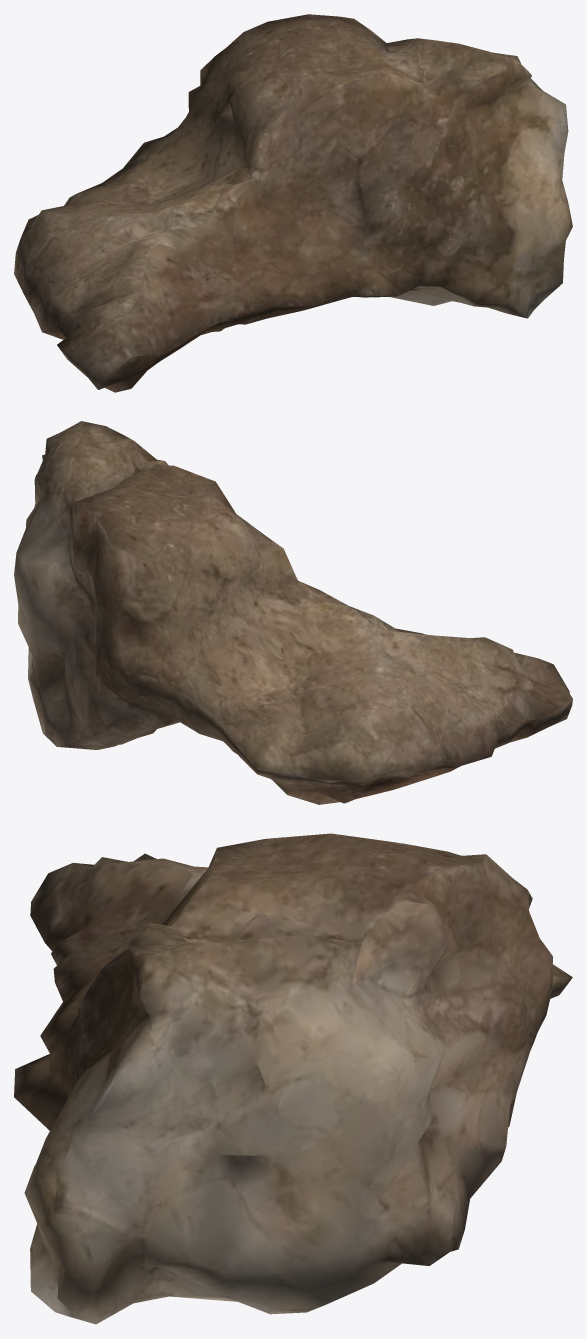
Rendered from stone_01.glb.
3 renders of one model, top to bottom at view 1: azimuth 30°, elevation 25°; view 2: azimuth 150°, elevation 25°; view 3: azimuth 270°, elevation 25°, orthographic. The views are drawn at different scales.
Parts seen in each view (by area): view 1: stone_01_lod0; view 2: stone_01_lod0; view 3: stone_01_lod0.
Boxes of the visible parts, box(x1,y1,x2,y2) form: stone_01_lod0: box(14, 14, 572, 392); stone_01_lod0: box(14, 421, 572, 804); stone_01_lod0: box(14, 833, 572, 1324).
Size of what is drawn, in the model's own units: 0.1458 by 0.0712 by 0.0888.
Materials: 1 (1 with a texture image).
